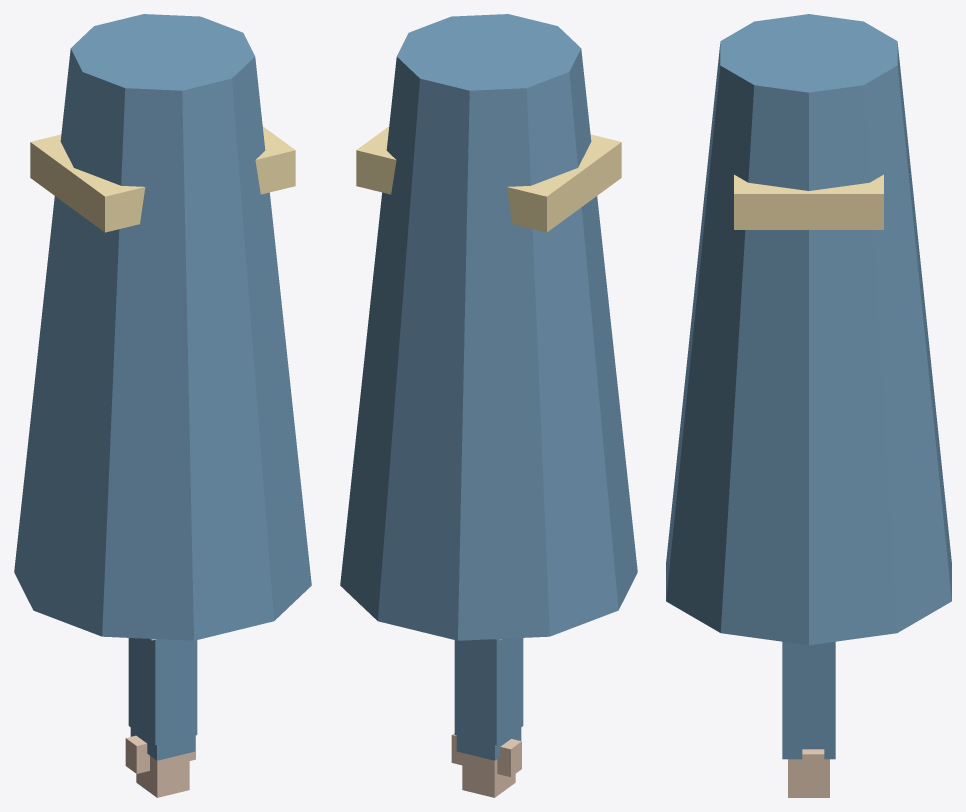
The model's file is npc_mara.glb.
The picture shows the model from 3 angles, left to right: view 1: azimuth 30°, elevation 25°; view 2: azimuth 150°, elevation 25°; view 3: azimuth 270°, elevation 25°; orthographic projection.
Parts seen in each view (by area): view 1: Torso, Sash, LimbArmL, HandL, LimbLegL, ThumbR; view 2: Torso, Sash, LimbArmL, HandL, LimbLegL, ThumbR; view 3: Torso, Sash, LimbArmL, HandL, ThumbL, LimbLegL.
Boxes of the visible parts, x1=… form: Torso: x1=14, y1=14, x2=311, y2=640; Sash: x1=30, y1=126, x2=295, y2=232; LimbArmL: x1=128, y1=638, x2=197, y2=745; HandL: x1=136, y1=753, x2=189, y2=797; LimbLegL: x1=130, y1=639, x2=195, y2=760; ThumbR: x1=125, y1=735, x2=149, y2=773; Torso: x1=340, y1=14, x2=637, y2=640; Sash: x1=356, y1=126, x2=621, y2=232; LimbArmL: x1=454, y1=638, x2=523, y2=745; HandL: x1=462, y1=753, x2=515, y2=797; LimbLegL: x1=456, y1=639, x2=521, y2=760; ThumbR: x1=497, y1=739, x2=521, y2=777; Torso: x1=666, y1=14, x2=951, y2=645; Sash: x1=734, y1=174, x2=883, y2=229; LimbArmL: x1=782, y1=641, x2=835, y2=744; HandL: x1=788, y1=759, x2=829, y2=797; ThumbL: x1=802, y1=749, x2=824, y2=782; LimbLegL: x1=782, y1=744, x2=835, y2=759.
Bounding box in the file's own units: 0.68 × 1.84 × 0.6467.
